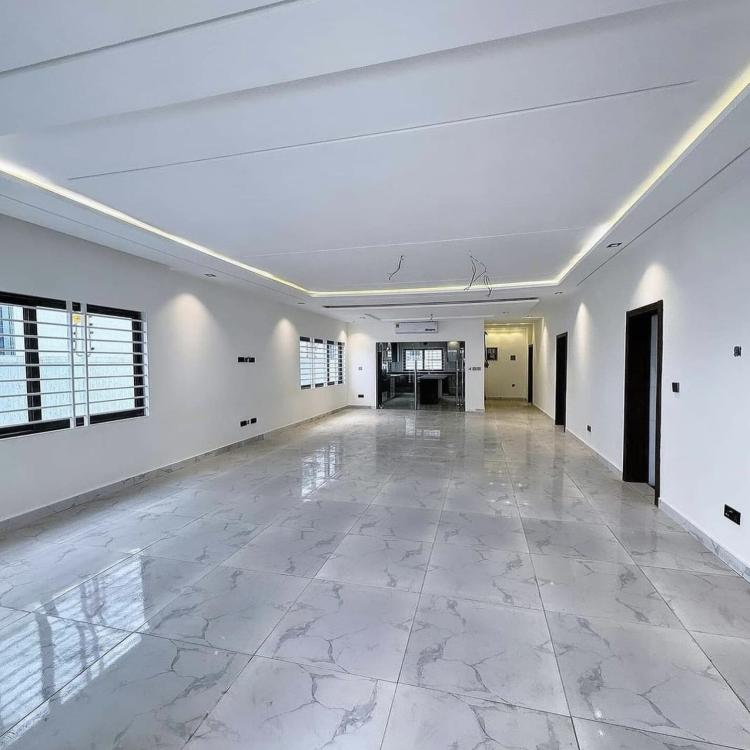OpenDoor: (618, 294, 671, 515), (370, 338, 469, 413), (480, 315, 544, 416)
